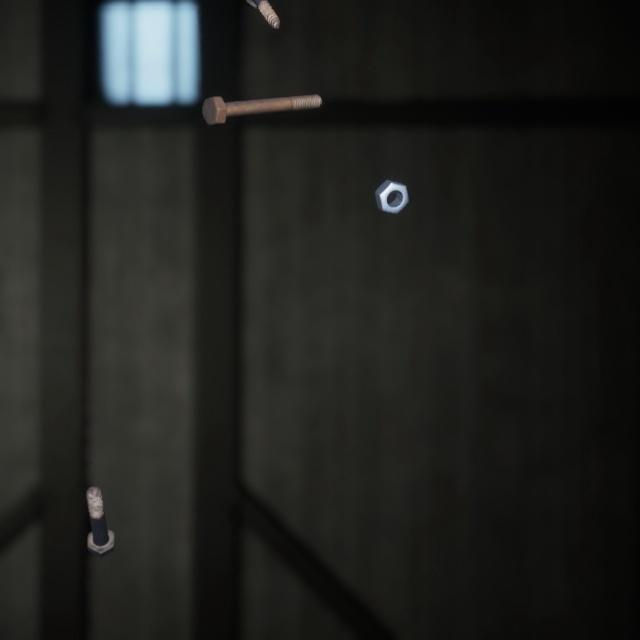bolt: (198, 78, 326, 117), (81, 459, 119, 540), (250, 0, 284, 24)
nut: (370, 161, 413, 204)
